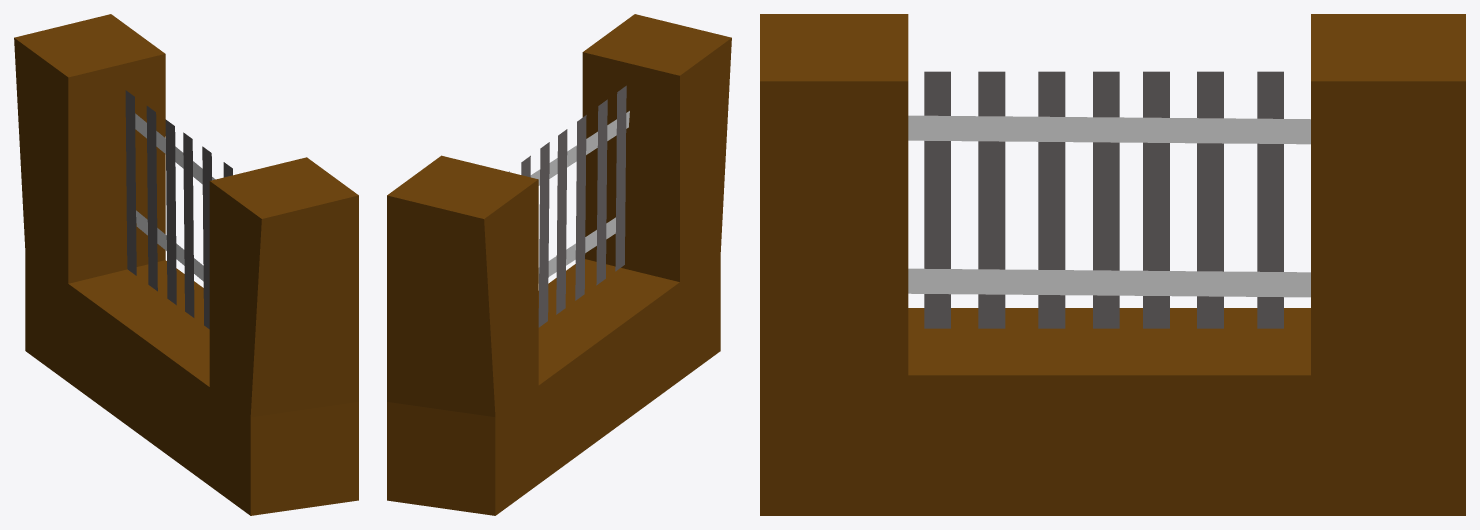
Rendered from fence.fbx.
The picture shows the model from 3 angles, left to right: view 1: azimuth 30°, elevation 25°; view 2: azimuth 150°, elevation 25°; view 3: azimuth 270°, elevation 25°; orthographic projection. The views are drawn at different scales.
Visible parts, largest first — view 1: Cube, Plane.005, Plane.003, Plane.007, Plane.006, Plane.002, Plane, Plane.008; view 2: Cube, Plane.007, Plane.002, Plane.004, Plane.001, Plane.003, Plane, Plane.008; view 3: Cube, Plane, Plane.008, Plane.001, Plane.002, Plane.003, Plane.006, Plane.007, Plane.005, Plane.004.
Part boxes in pixels (x1,y1,x2,y2): Cube: (14,14,358,515); Plane.005: (125,90,136,275); Plane.003: (183,132,194,317); Plane.007: (165,119,176,305); Plane.006: (146,106,157,291); Plane.002: (202,146,211,329); Plane: (135,113,215,184); Plane.008: (136,210,203,281); Cube: (387,14,731,515); Plane.007: (538,142,549,327); Plane.002: (575,115,586,300); Plane.004: (615,85,626,271); Plane.001: (596,99,607,285); Plane.003: (556,129,567,314); Plane: (530,111,629,185); Plane.008: (538,217,615,283); Cube: (760,14,1465,515); Plane: (908,115,1310,144); Plane.008: (908,268,1310,297); Plane.001: (978,71,1005,328); Plane.002: (1038,71,1065,328); Plane.003: (1093,71,1119,328); Plane.006: (1197,71,1223,328); Plane.007: (1143,71,1169,328); Plane.005: (1257,71,1283,328); Plane.004: (924,71,950,328).
Size of the model in its own units: 54.08 by 162 by 239.
